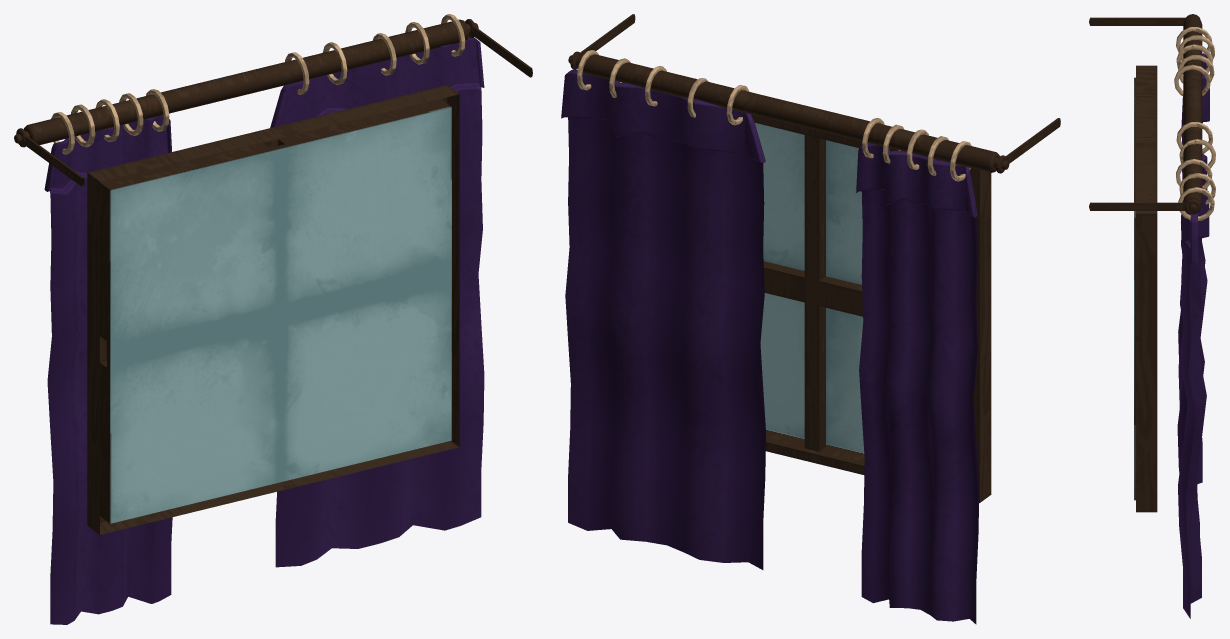
Rendered from SmallWindow (2).fbx.
3 views of the same model, side by side, from view 1: azimuth 30°, elevation 25°; view 2: azimuth 150°, elevation 25°; view 3: azimuth 270°, elevation 25° (orthographic). The views are drawn at different scales.
Visible parts, largest first — view 1: Ventana1, Cortina2__1_, Cortina2__1__1, soporte1; view 2: Cortina2__1_, Cortina2__1__1, Ventana1, soporte1; view 3: Ventana1, Cortina2__1_, soporte1, Cortina2__1__1, anillo1, anillo1__11_, anillo1__4_, anillo1__7_, anillo1__1_, anillo1__2_, anillo1__3_, anillo1__10_ (+2 smaller).
Boxes of the visible parts, <box> form: Ventana1: <box>87,85,459,534</box>; Cortina2__1_: <box>270,37,484,567</box>; Cortina2__1__1: <box>44,115,172,624</box>; soporte1: <box>14,19,532,186</box>; Cortina2__1_: <box>561,69,765,569</box>; Cortina2__1__1: <box>856,143,979,624</box>; Ventana1: <box>751,114,991,503</box>; soporte1: <box>568,14,1060,173</box>; Ventana1: <box>1134,65,1157,512</box>; Cortina2__1_: <box>1177,153,1209,618</box>; soporte1: <box>1089,14,1202,214</box>; Cortina2__1__1: <box>1178,53,1209,484</box>; anillo1: <box>1178,187,1214,220</box>; anillo1__11_: <box>1174,64,1210,95</box>; anillo1__4_: <box>1176,122,1212,153</box>; anillo1__7_: <box>1176,159,1212,189</box>; anillo1__1_: <box>1179,139,1215,170</box>; anillo1__2_: <box>1179,173,1215,204</box>; anillo1__3_: <box>1178,55,1214,83</box>; anillo1__10_: <box>1176,44,1212,74</box>.
Size of the model in its own units: 228 by 238 by 63.27.
Materials: 1 (1 with a texture image).
